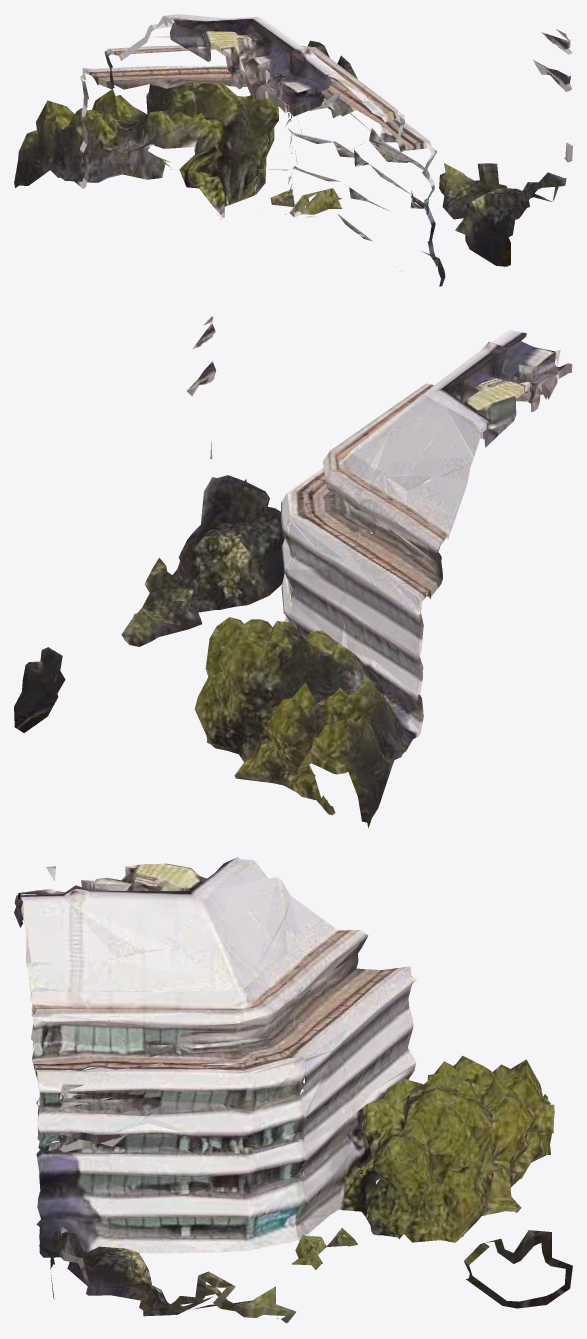
3 renders of one model, top to bottom at view 1: azimuth 30°, elevation 25°; view 2: azimuth 150°, elevation 25°; view 3: azimuth 270°, elevation 25°, orthographic. The views are drawn at different scales.
Visible parts, largest first — view 1: Mesh_0; view 2: Mesh_0; view 3: Mesh_0.
Part boxes in pixels (<box>): Mesh_0: <box>14,14,572,286</box>; Mesh_0: <box>14,316,572,828</box>; Mesh_0: <box>14,857,572,1323</box>.
Bounding box in the file's own units: 33.77 × 24.27 × 40.03.
Materials: 2 (2 with a texture image).
